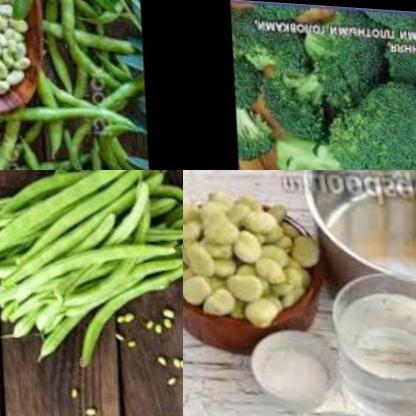beans: (0, 170, 183, 368), (14, 0, 135, 170), (183, 175, 324, 318), (0, 0, 39, 105), (0, 109, 50, 170), (140, 299, 174, 331), (149, 348, 183, 366), (113, 329, 139, 345), (156, 371, 181, 383), (113, 309, 133, 322), (65, 379, 76, 400), (79, 404, 93, 416), (162, 412, 183, 416)
broccoli: (231, 0, 392, 129), (273, 72, 416, 170), (379, 11, 416, 92)
